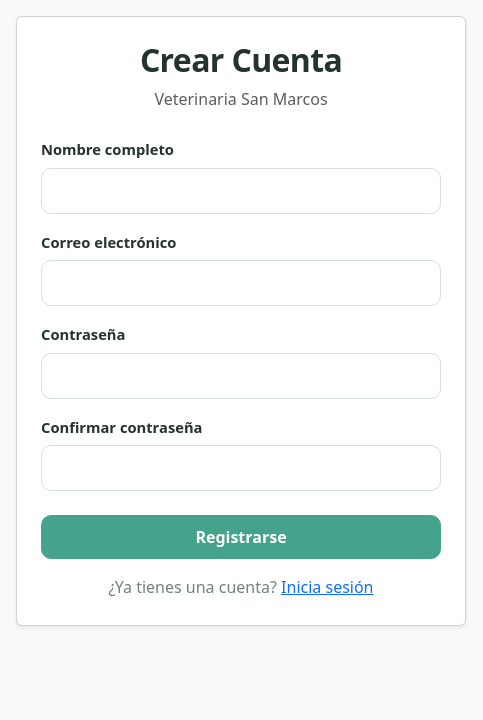
it: RegistroPage › rechaza un correo ya registrado, sin importar mayúsculas
In the field labelled "Nombre completo": (241, 190) left=41, top=168, right=441, bottom=214, type "Ana Pérez"
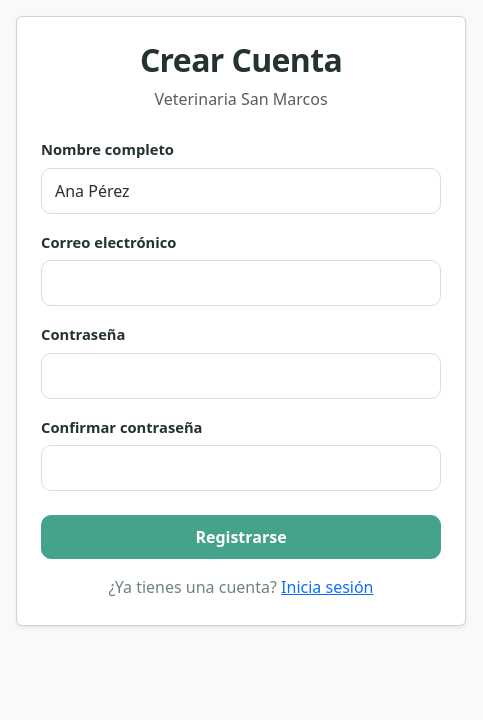
In the field labelled "Correo electrónico": (241, 283) left=41, top=260, right=441, bottom=306, type "ANA@correo.cl"
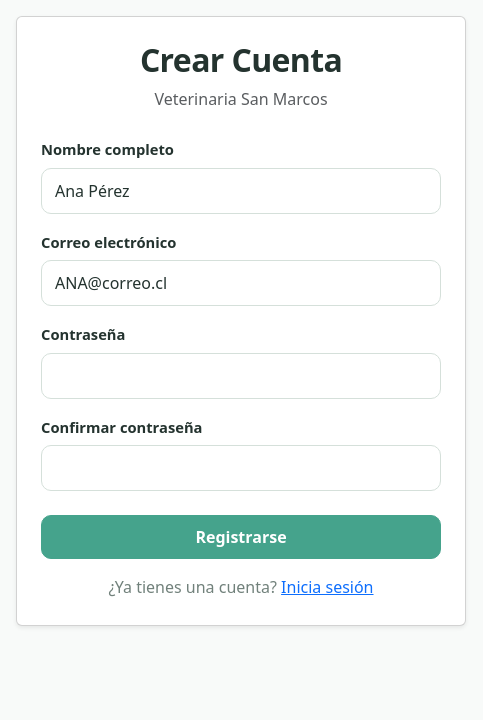
In the password field labelled "Contraseña": (241, 376) left=41, top=353, right=441, bottom=399, type "abcd"
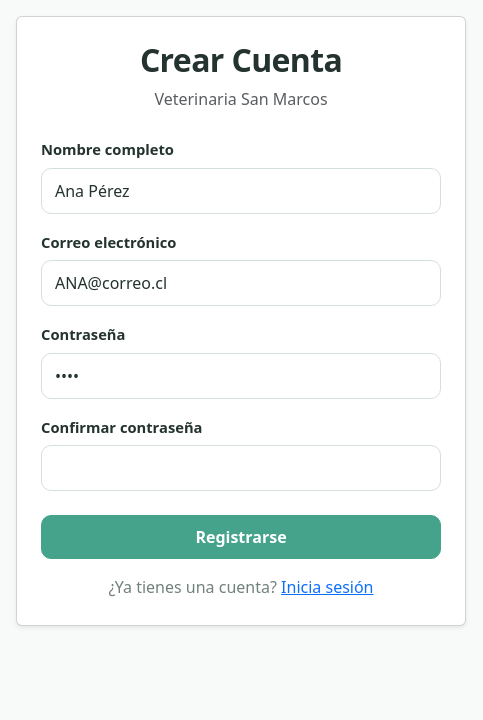
In the password field labelled "Confirmar contraseña": (241, 468) left=41, top=445, right=441, bottom=491, type "abcd"
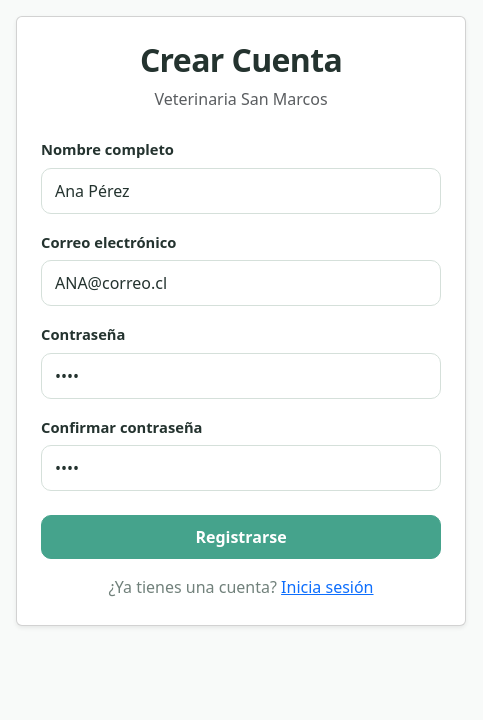
Click the button "Registrarse": (241, 537) left=41, top=515, right=441, bottom=559
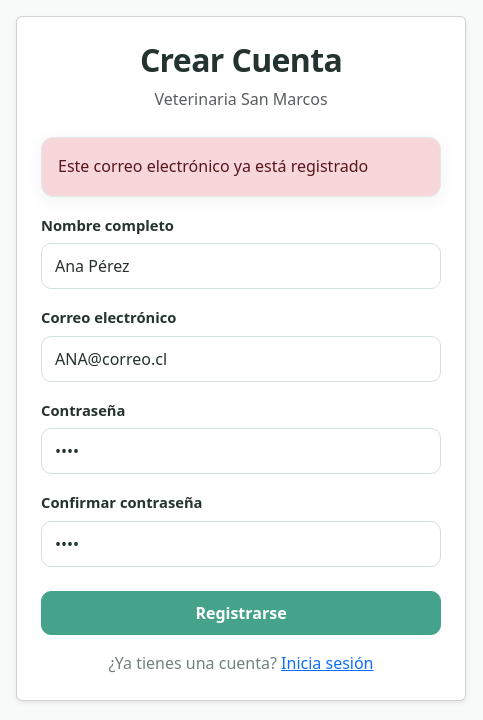
Now the message reads "Este correo electrónico ya está registrado", box left=58, top=155, right=368, bottom=177
